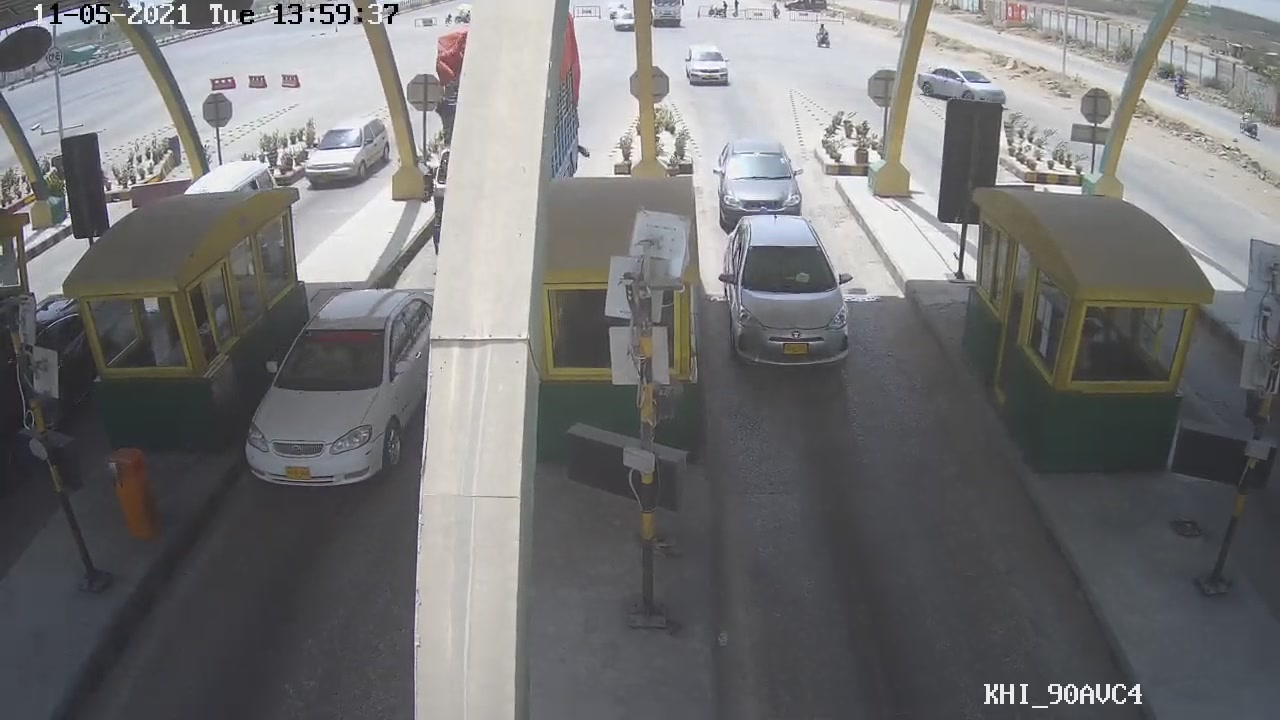F1: (713, 203, 859, 378)
